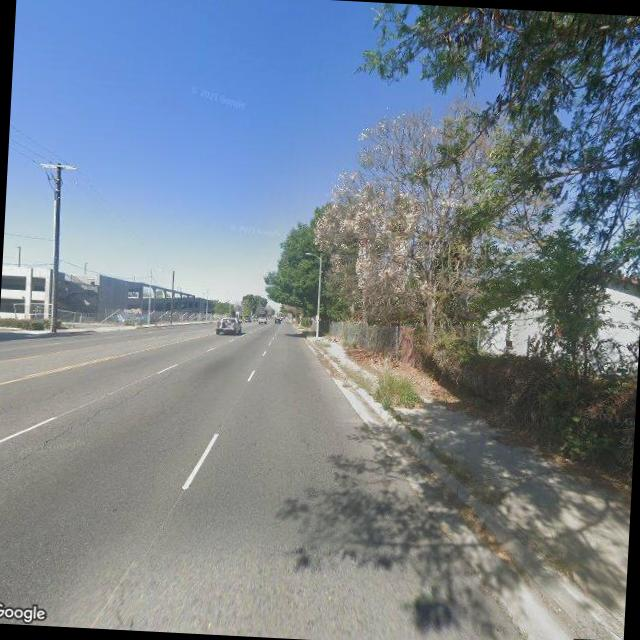crack: (0, 375, 155, 478)
